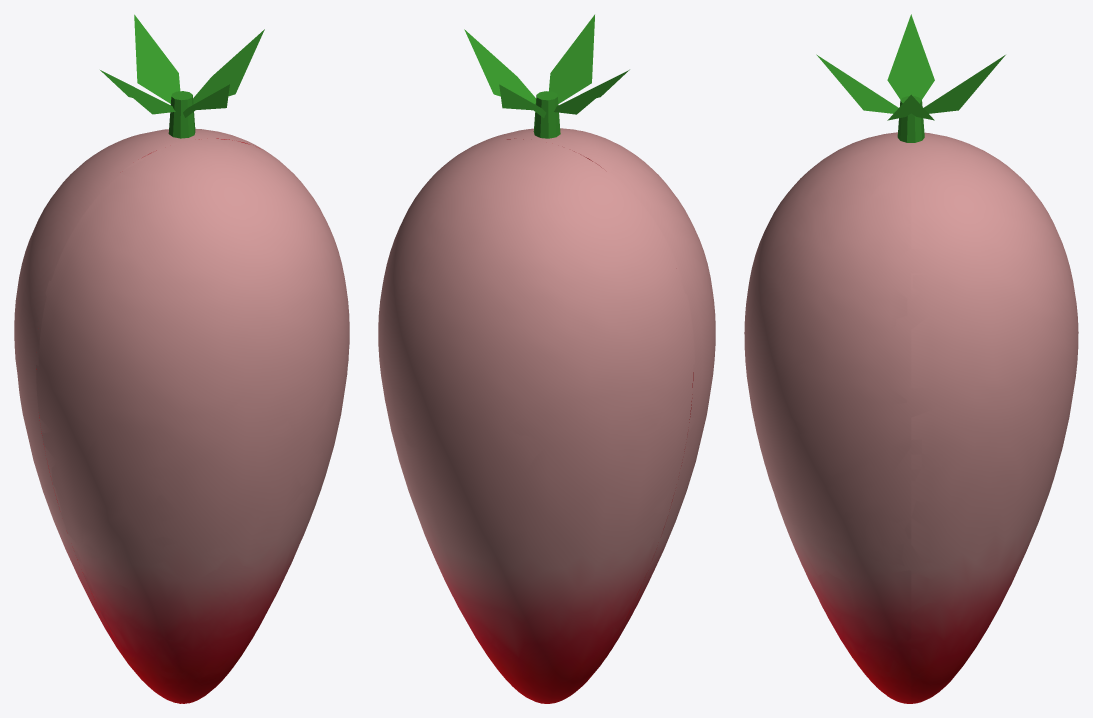
The model's file is radis.glb.
3 views of the same model, side by side, from view 1: azimuth 30°, elevation 25°; view 2: azimuth 150°, elevation 25°; view 3: azimuth 270°, elevation 25° (orthographic).
Parts seen in each view (by area): view 1: entier_peau, moitie_B_peau, moitie_A_peau, entier_extra0; view 2: moitie_A_peau, entier_peau, moitie_B_peau, entier_extra0; view 3: entier_peau, moitie_A_peau, moitie_B_peau, entier_extra0.
Part boxes in pixels (left/top/right/bottom): entier_peau: left=16, top=129, right=349, bottom=703; moitie_B_peau: left=36, top=138, right=349, bottom=703; moitie_A_peau: left=14, top=128, right=267, bottom=684; entier_extra0: left=100, top=14, right=264, bottom=138; moitie_A_peau: left=378, top=139, right=692, bottom=703; entier_peau: left=378, top=129, right=715, bottom=703; moitie_B_peau: left=465, top=128, right=715, bottom=688; entier_extra0: left=464, top=14, right=629, bottom=138; entier_peau: left=744, top=132, right=1078, bottom=703; moitie_A_peau: left=911, top=132, right=1078, bottom=702; moitie_B_peau: left=744, top=132, right=911, bottom=703; entier_extra0: left=816, top=14, right=1005, bottom=142.
Size of the model in its own units: 0.9847 by 2.1 by 0.9824.
